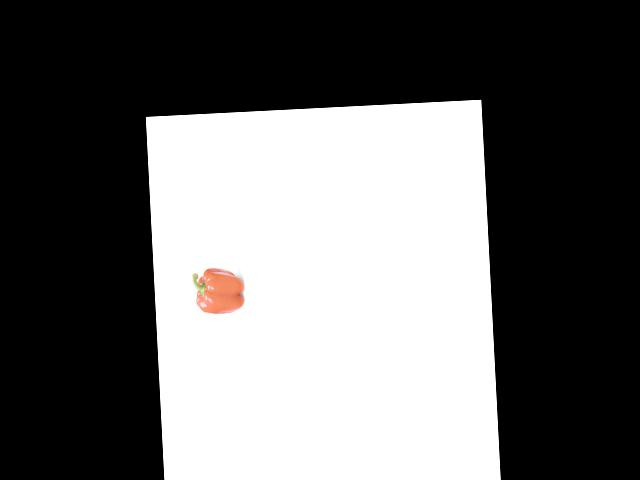bell_pepper: (191, 266, 246, 316)
